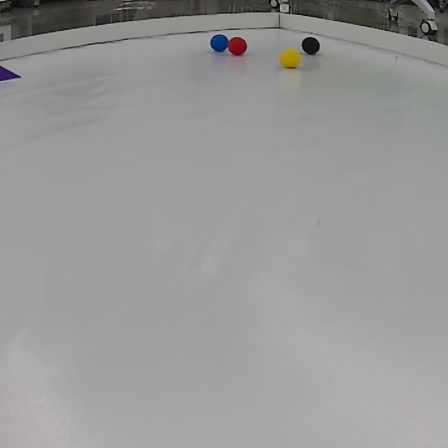black: (301, 35, 322, 58)
blue: (208, 34, 229, 53)
red: (228, 36, 246, 57)
yellow: (277, 46, 301, 71)
